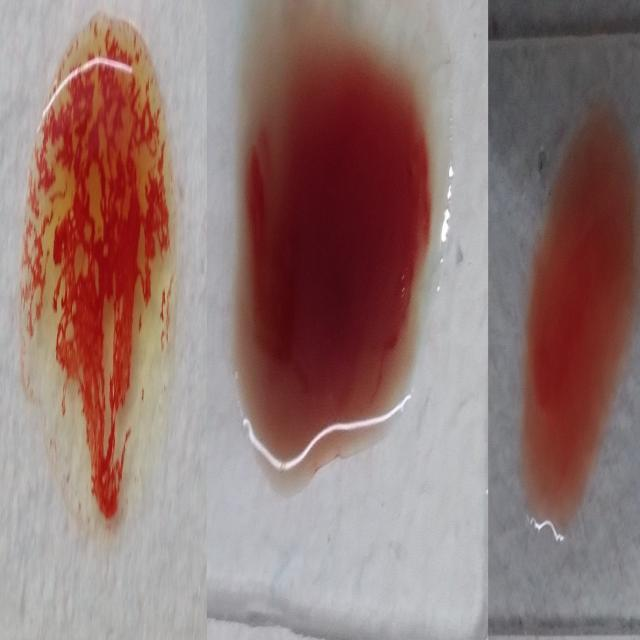B: (12, 12, 182, 550)
